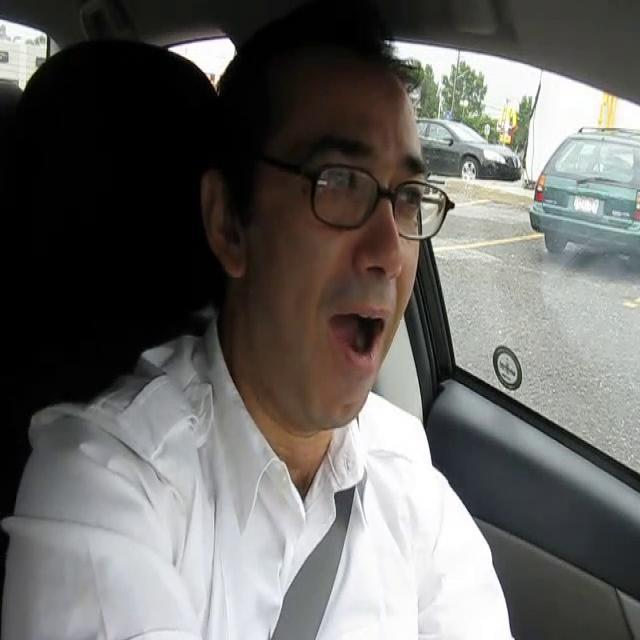open-mouth: (324, 300, 394, 378)
